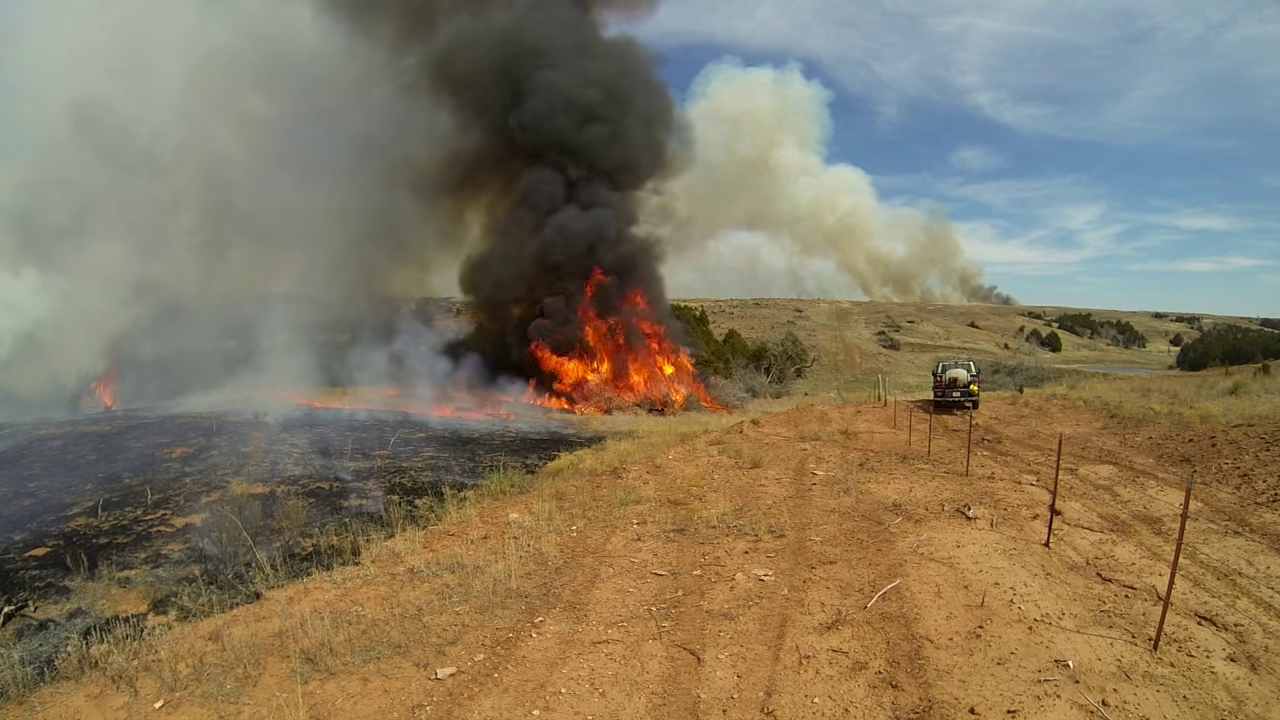forest_fire: (527, 266, 721, 412), (91, 367, 114, 409)
